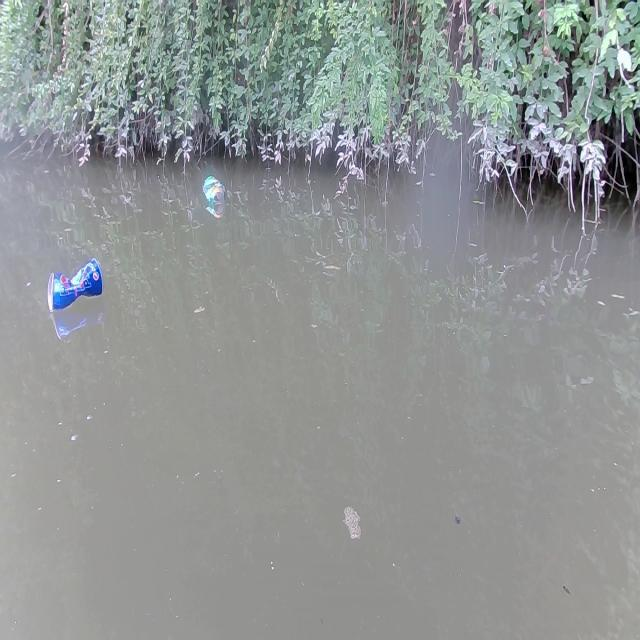bottle: (48, 253, 104, 310), (202, 174, 228, 217)
